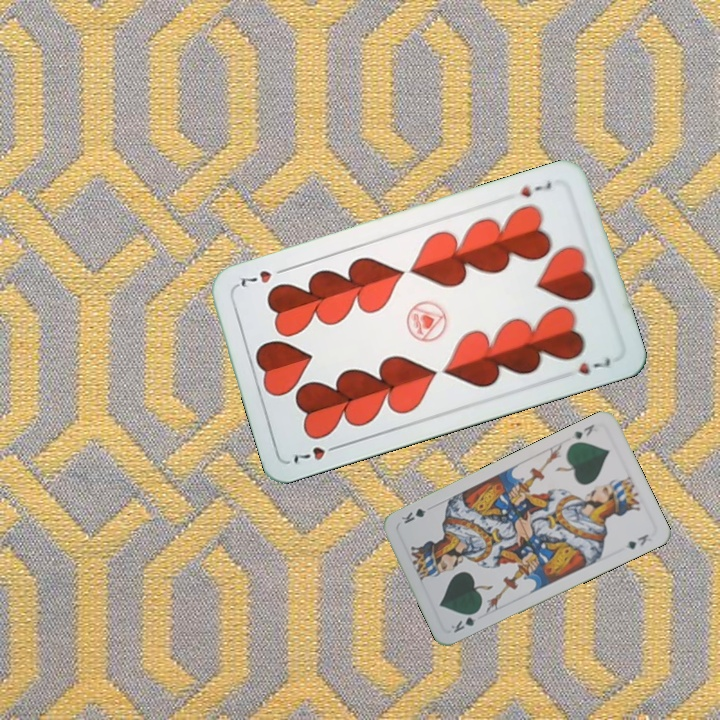GK: (447, 607, 482, 636), (567, 420, 597, 442)
H7: (289, 439, 344, 467), (517, 178, 554, 201)
